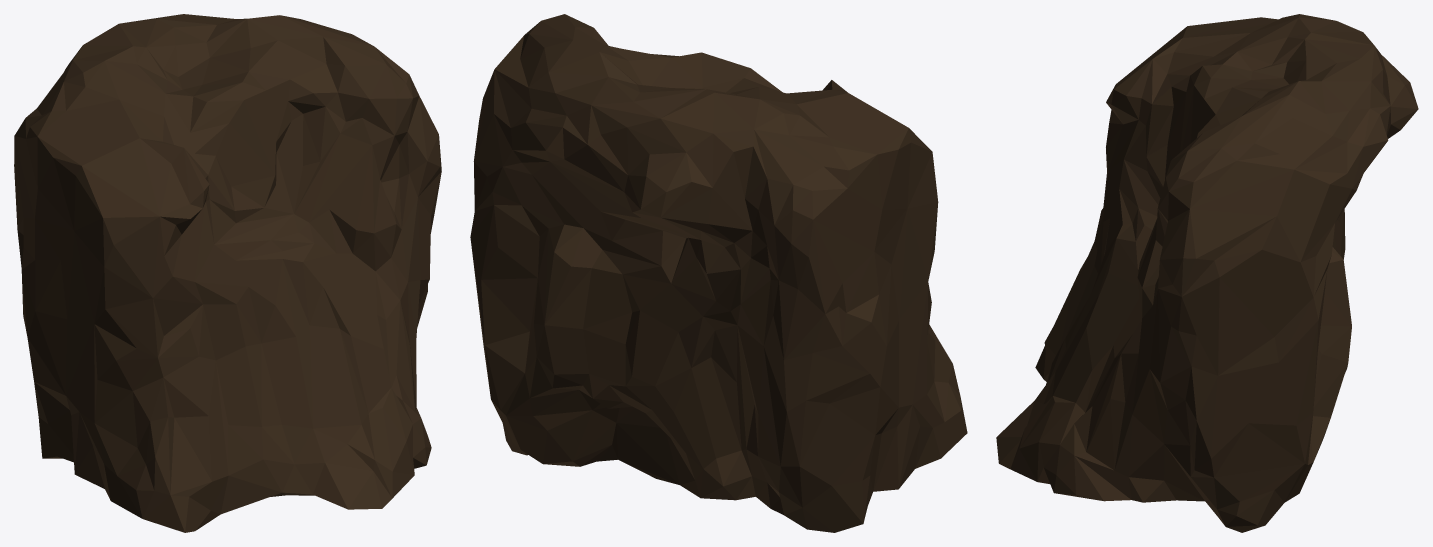
File: SM_cliff_03.FBX
The picture shows the model from 3 angles, left to right: view 1: azimuth 30°, elevation 25°; view 2: azimuth 150°, elevation 25°; view 3: azimuth 270°, elevation 25°; orthographic projection. The views are drawn at different scales.
Parts seen in each view (by area): view 1: Object020; view 2: Object020; view 3: Object020.
Boxes of the visible parts, x1,y1,x2,y2 form: Object020: [14, 14, 441, 532]; Object020: [470, 14, 967, 532]; Object020: [996, 14, 1418, 532].
Size of the model in its own units: 1254 by 1284 by 1206.
